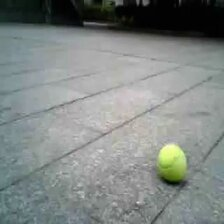tennis: (158, 145, 187, 177)
